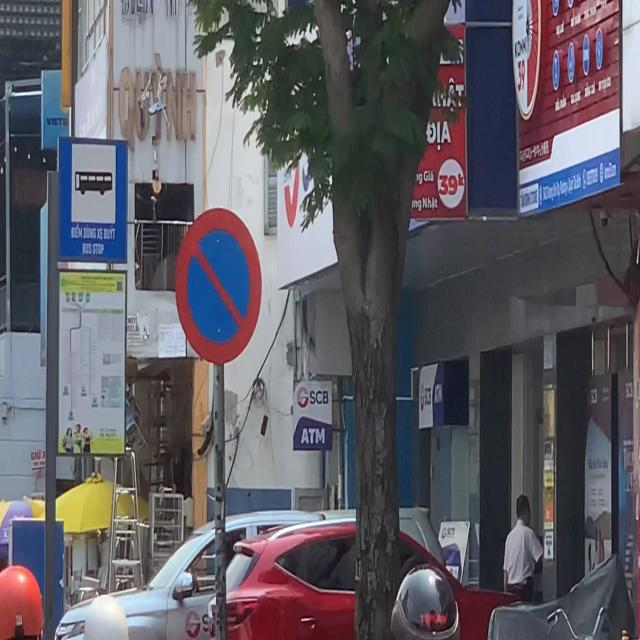Ben xe buyt: (66, 138, 120, 263)
Cam do: (175, 208, 262, 366)
